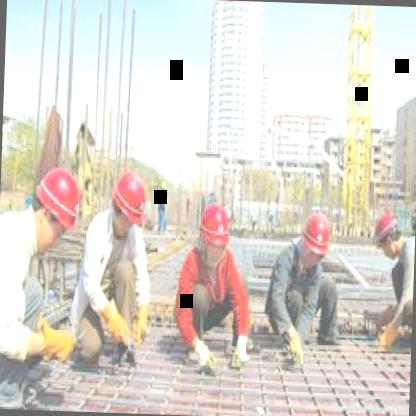helmet: (33, 164, 85, 254), (108, 167, 150, 240), (193, 201, 233, 269), (300, 207, 334, 271), (368, 210, 408, 261)
